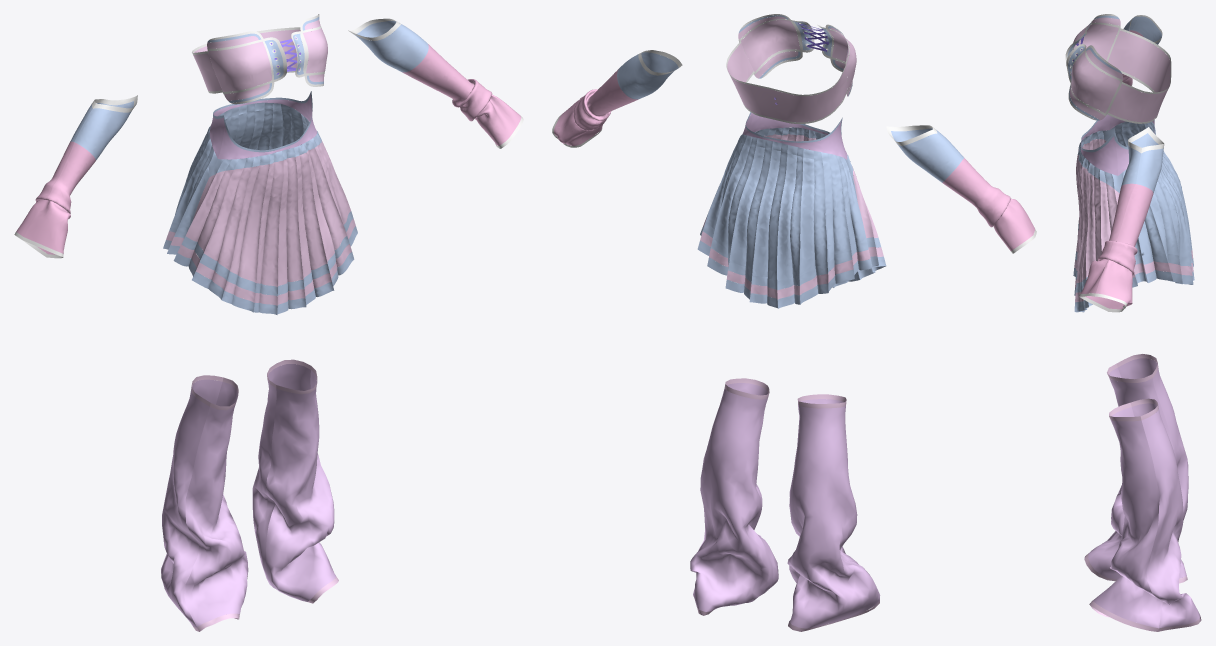
The model's file is Domi.glb.
3 renders of one model, left to right at view 1: azimuth 30°, elevation 25°; view 2: azimuth 150°, elevation 25°; view 3: azimuth 270°, elevation 25°, orthographic. The views are drawn at different scales.
Visible parts, largest first — view 1: Domi_Mesh; view 2: Domi_Mesh; view 3: Domi_Mesh.
Boxes of the visible parts, x1=… form: Domi_Mesh: x1=14, y1=14, x2=523, y2=631; Domi_Mesh: x1=552, y1=14, x2=1036, y2=631; Domi_Mesh: x1=1065, y1=14, x2=1201, y2=631.
Size of what is drawn, in the model's own units: 1.16 by 1.32 by 0.2863.
